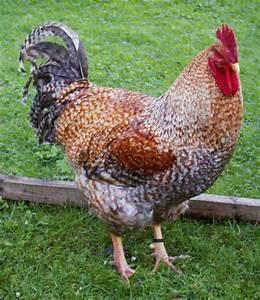hen: (17, 19, 244, 283)
